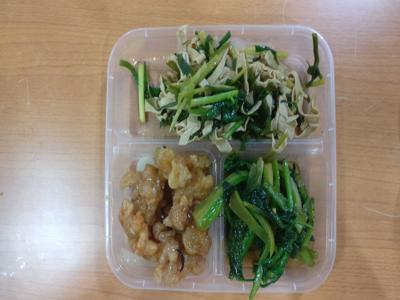gbr: (115, 147, 215, 281)
ymc: (225, 157, 325, 286)
